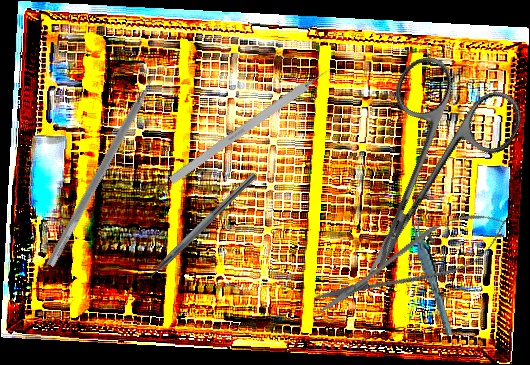Chopper: (131, 164, 258, 292)
Hook Surgical: (168, 61, 339, 185)
Iris Scissors: (311, 46, 530, 306)
Micro Scissor: (305, 196, 517, 331)
Spatula Surgical: (45, 59, 172, 272)
Tissue Forceps: (411, 215, 454, 339)
